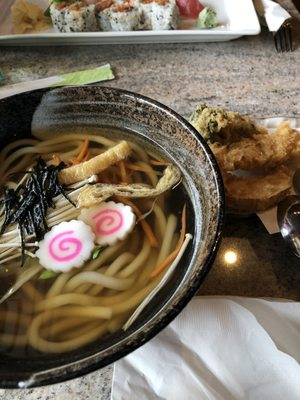sushi: (1, 84, 227, 392)
